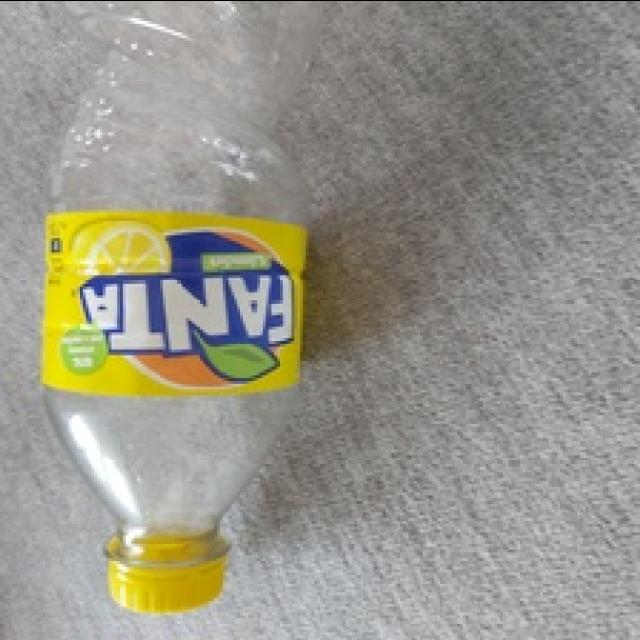寶特瓶: (35, 0, 342, 623)
